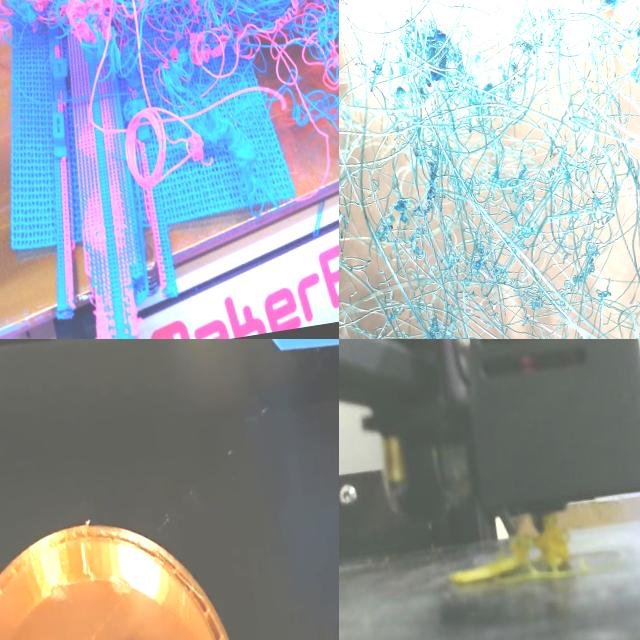spaghetti: (339, 0, 640, 339), (450, 513, 570, 585)
